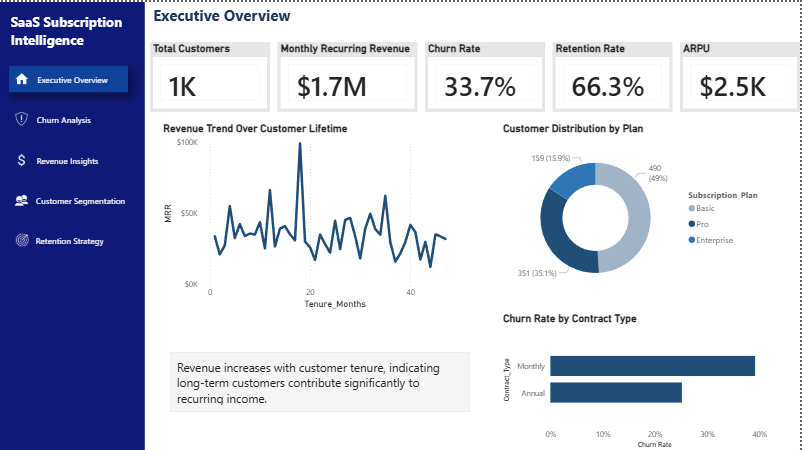

This screenshot's page, from the dashboard's own definition file:
{"tool":"powerbi","page":{"name":"Executive Overview","canvas":[1280,720],"ordinal":0},"visuals":[{"type":"shape","box":[0,0,231.7,720],"z":0},{"type":"textbox","box":[11.2,12.5,210,67.5],"z":1000},{"type":"actionButton","box":[11.7,101.7,192.5,42.5],"z":2000},{"type":"actionButton","box":[11.7,166.7,184.2,42.5],"z":3000},{"type":"actionButton","box":[11.2,231,192.5,42.5],"z":4000},{"type":"actionButton","box":[11.4,295.7,199.3,42.1],"z":5000},{"type":"actionButton","box":[11.7,360,199.2,42.5],"z":6000},{"type":"cardVisual","title":"Total Customers","fields":{"Data":["SaaS_Subscription_Dataset.Total Customers"]},"box":[240,64,192,112],"z":7000},{"type":"cardVisual","title":"Monthly Recurring Revenue","fields":{"Data":["SaaS_Subscription_Dataset.MRR"]},"box":[444,64,224,112],"z":8000},{"type":"cardVisual","title":"Churn Rate","fields":{"Data":["SaaS_Subscription_Dataset.Churn Rate"]},"box":[680,64,192,112],"z":9000},{"type":"cardVisual","title":"Retention Rate","fields":{"Data":["SaaS_Subscription_Dataset.Retention Rate"]},"box":[884,64,192,112],"z":10000},{"type":"cardVisual","title":"ARPU","fields":{"Data":["SaaS_Subscription_Dataset.ARPU"]},"box":[1088,64,192,112],"z":11000},{"type":"lineChart","title":"Revenue Trend Over Customer Lifetime","fields":{"Category":["SaaS_Subscription_Dataset.Tenure_Months"],"Y":["SaaS_Subscription_Dataset.MRR"]},"box":[256,192,496,304],"z":12000},{"type":"donutChart","title":"Customer Distribution by Plan","fields":{"Category":["SaaS_Subscription_Dataset.Subscription_Plan"],"Y":["CountNonNull(SaaS_Subscription_Dataset.Customer_ID)"]},"box":[800,192,432,288],"z":13000},{"type":"clusteredBarChart","title":"Churn Rate by Contract Type","fields":{"Category":["SaaS_Subscription_Dataset.Contract_Type"],"Y":["SaaS_Subscription_Dataset.Churn Rate"]},"box":[800,496,432,224],"z":14000},{"type":"textbox","box":[272,560,480,96],"z":15000},{"type":"image","box":[22.5,111.9,25,22.5],"z":16000},{"type":"image","box":[22.5,176.7,25,21.7],"z":17000},{"type":"image","box":[22.5,241.7,25,21.7],"z":18000},{"type":"image","box":[22.5,305.8,25,21.7],"z":19000},{"type":"image","box":[19.2,370.8,30.8,21.7],"z":20000},{"type":"textbox","box":[240,0,512,48],"z":21000}]}

Visuals, with their boxes on the page's 1280x720 design canvas (x1, y1, x2, y2). These are canvas units, not pixel positions in the 802x450 screenshot, which may show the page scaled, cropped or inside an application window:
shape: x1=0 y1=0 x2=232 y2=720
textbox: x1=11 y1=12 x2=221 y2=80
actionButton: x1=12 y1=102 x2=204 y2=144
actionButton: x1=12 y1=167 x2=196 y2=209
actionButton: x1=11 y1=231 x2=204 y2=274
actionButton: x1=11 y1=296 x2=211 y2=338
actionButton: x1=12 y1=360 x2=211 y2=402
"Total Customers" cardVisual: x1=240 y1=64 x2=432 y2=176
"Monthly Recurring Revenue" cardVisual: x1=444 y1=64 x2=668 y2=176
"Churn Rate" cardVisual: x1=680 y1=64 x2=872 y2=176
"Retention Rate" cardVisual: x1=884 y1=64 x2=1076 y2=176
"ARPU" cardVisual: x1=1088 y1=64 x2=1280 y2=176
"Revenue Trend Over Customer Lifetime" lineChart: x1=256 y1=192 x2=752 y2=496
"Customer Distribution by Plan" donutChart: x1=800 y1=192 x2=1232 y2=480
"Churn Rate by Contract Type" clusteredBarChart: x1=800 y1=496 x2=1232 y2=720
textbox: x1=272 y1=560 x2=752 y2=656
image: x1=22 y1=112 x2=48 y2=134
image: x1=22 y1=177 x2=48 y2=198
image: x1=22 y1=242 x2=48 y2=263
image: x1=22 y1=306 x2=48 y2=328
image: x1=19 y1=371 x2=50 y2=392
textbox: x1=240 y1=0 x2=752 y2=48
